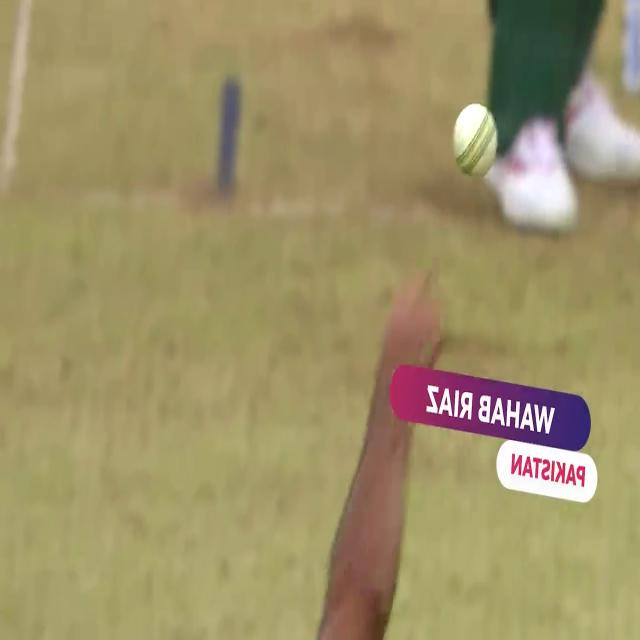ball: (442, 86, 508, 196)
